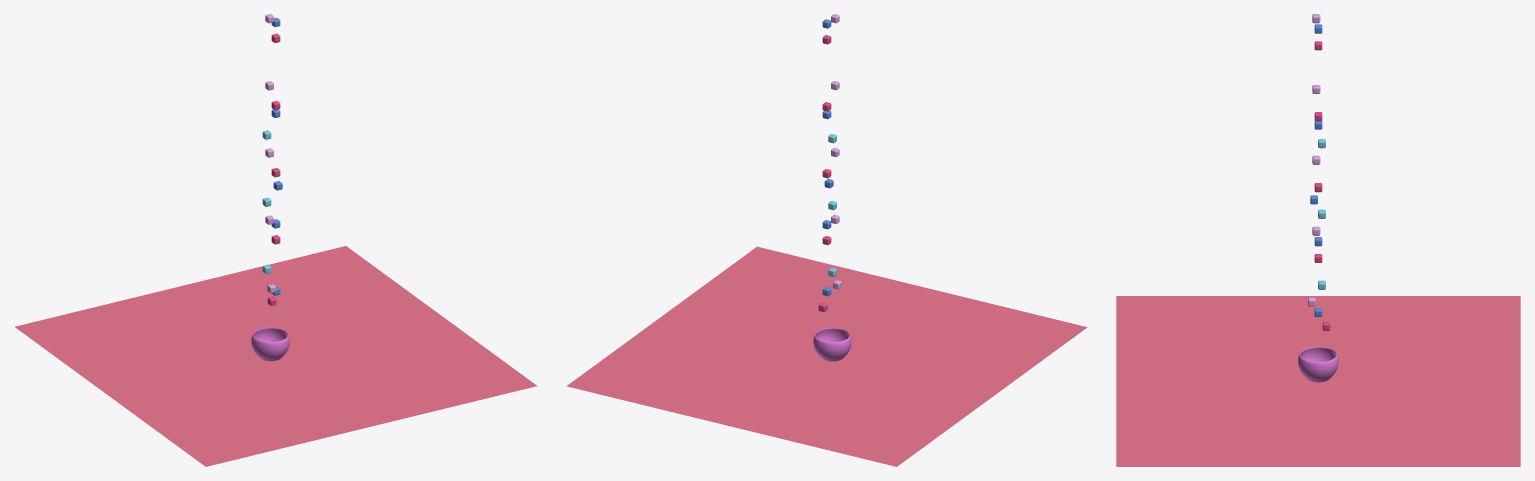
File: ANIMATIONG.glb
3 renders of one model, left to right at view 1: azimuth 30°, elevation 25°; view 2: azimuth 150°, elevation 25°; view 3: azimuth 270°, elevation 25°, orthographic. The views are drawn at different scales.
Parts seen in each view (by area): view 1: Plane, Sphere; view 2: Plane, Sphere; view 3: Plane, Sphere.
Boxes of the visible parts, x1,y1,x2,y2 form: Plane: [14, 246, 536, 466]; Sphere: [251, 327, 289, 361]; Plane: [566, 246, 1087, 466]; Sphere: [813, 327, 851, 361]; Plane: [1116, 296, 1520, 466]; Sphere: [1298, 346, 1338, 382].
Size of the model in its own units: 32.99 by 34.47 by 32.99.
